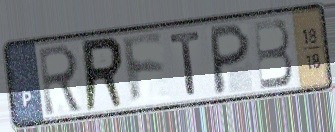B: (250, 16, 295, 92)
F: (120, 31, 167, 107)
P: (210, 20, 252, 97)
R: (81, 34, 128, 116), (37, 42, 86, 119)
T: (168, 28, 203, 97)
